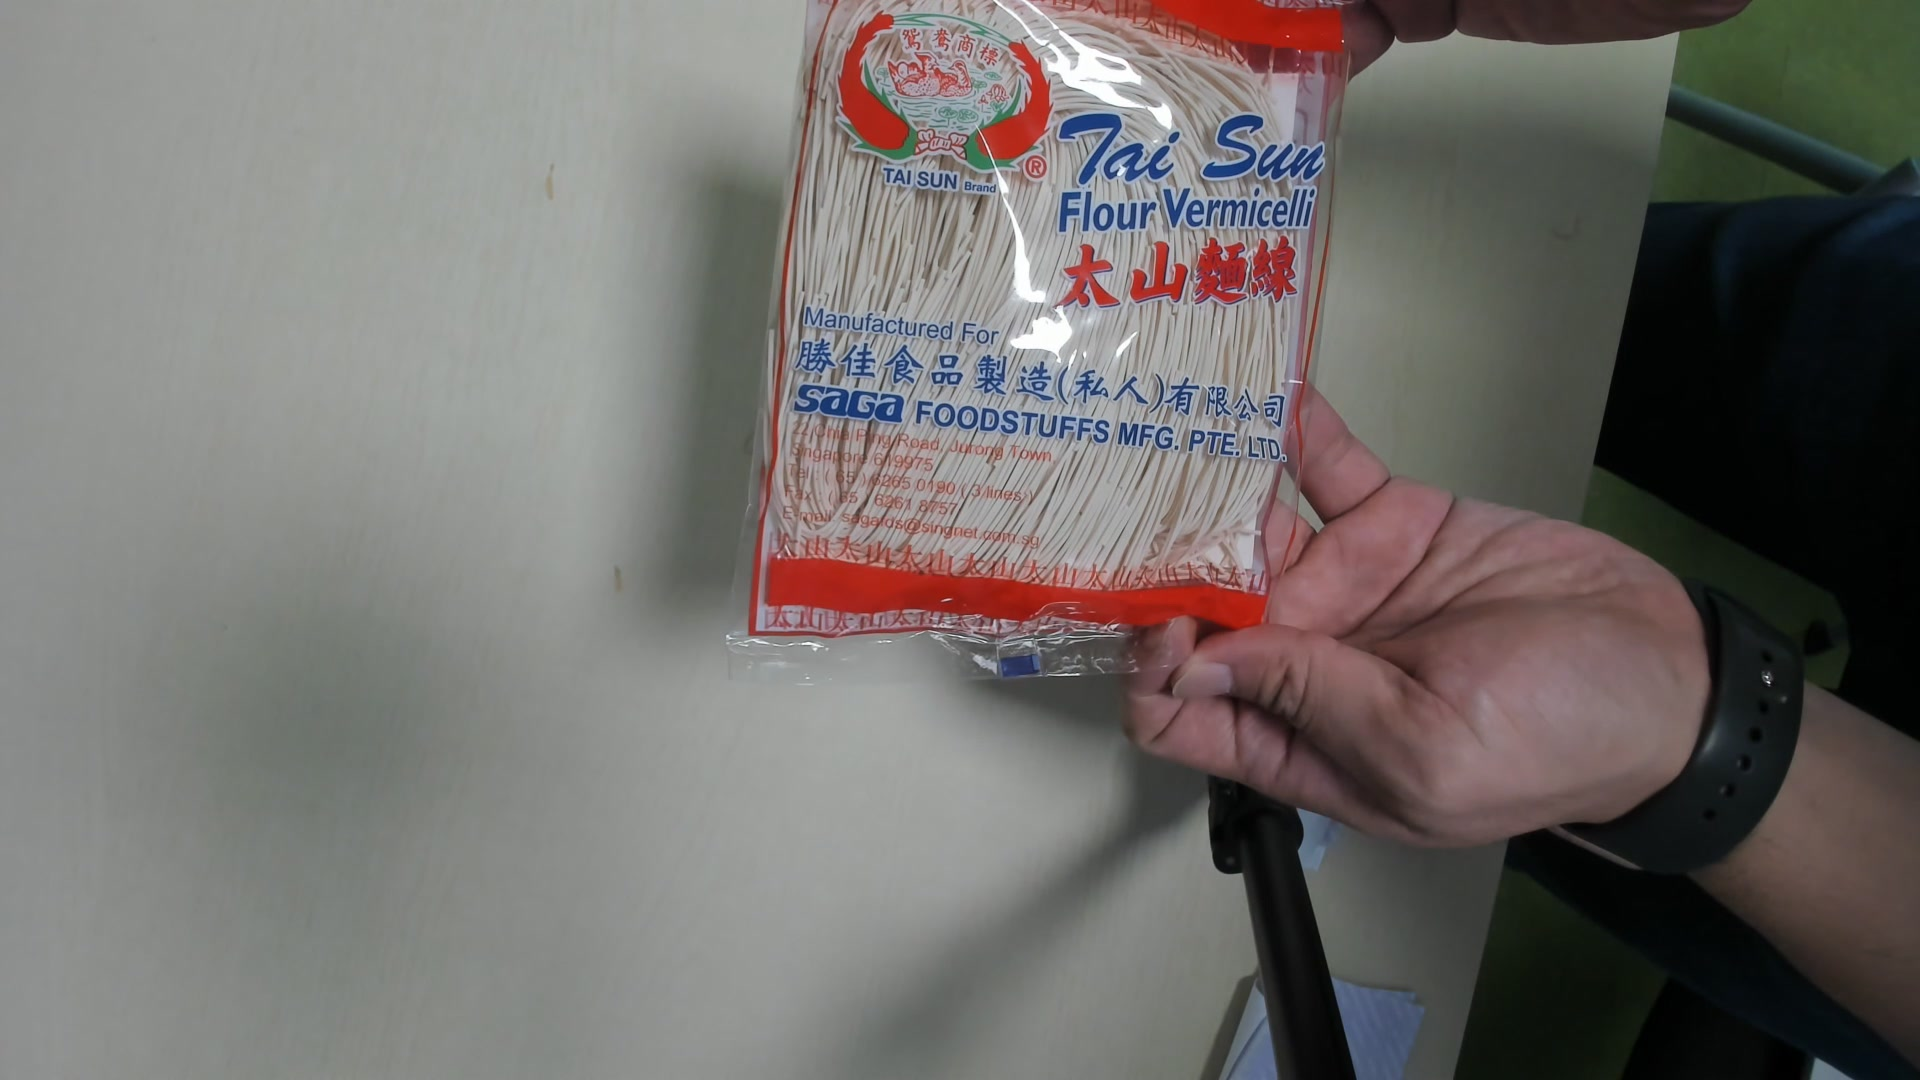BeeHoonVermicelli_100-199g_Halal_NonHealthy: (740, 1, 1349, 687)
